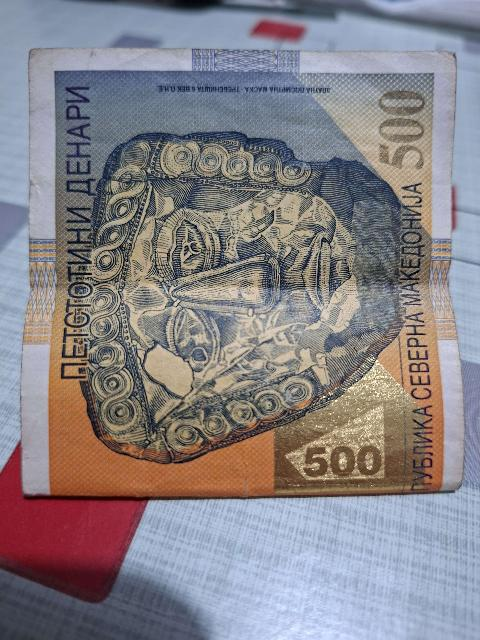500_note: (22, 50, 463, 496)
